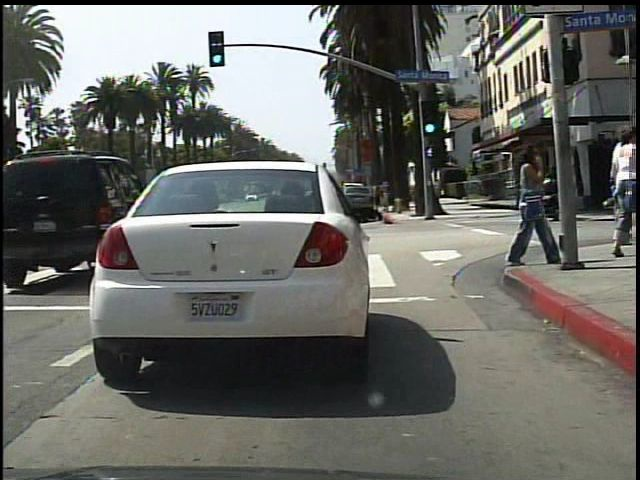person: (499, 139, 554, 271), (590, 121, 640, 262)
